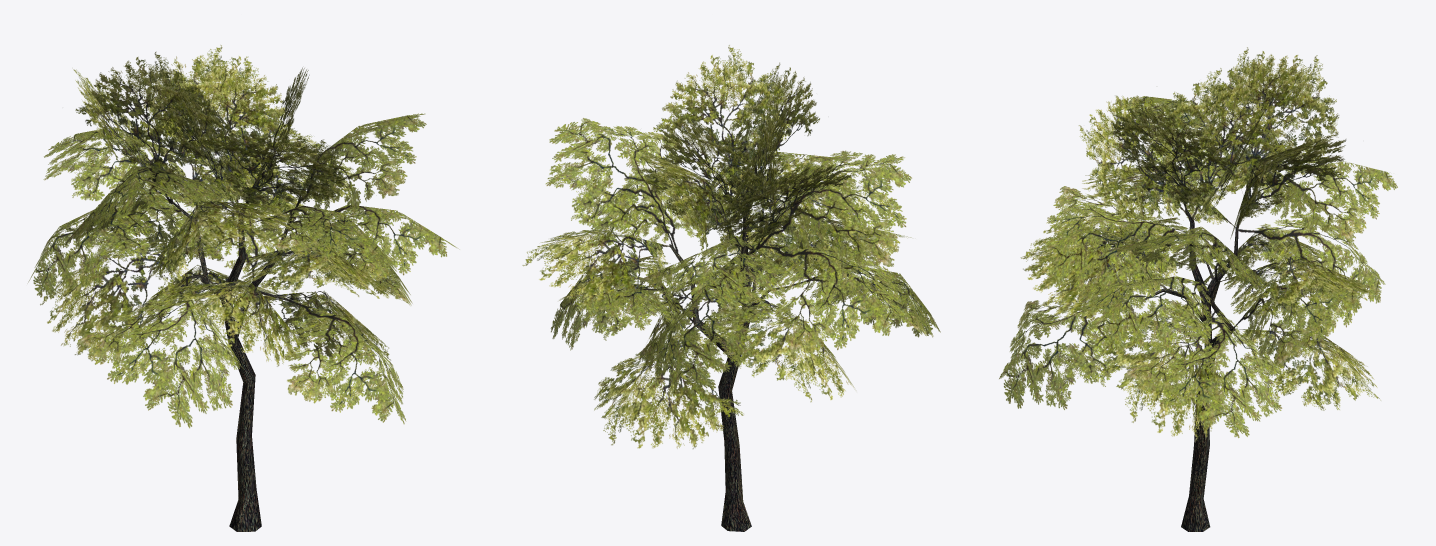
The model's file is tree_t01.glb.
3 views of the same model, side by side, from view 1: azimuth 30°, elevation 25°; view 2: azimuth 150°, elevation 25°; view 3: azimuth 270°, elevation 25° (orthographic). The views are drawn at different scales.
Parts seen in each view (by area): view 1: tree_t01-col; view 2: tree_t01-col; view 3: tree_t01-col.
Boxes of the visible parts, left/top/right/bottom form: tree_t01-col: left=28, top=45, right=459, bottom=531; tree_t01-col: left=522, top=45, right=940, bottom=531; tree_t01-col: left=999, top=47, right=1397, bottom=531.
Size of the model in its own units: 19.77 by 23.15 by 19.22.
3 materials, 3 textured.
